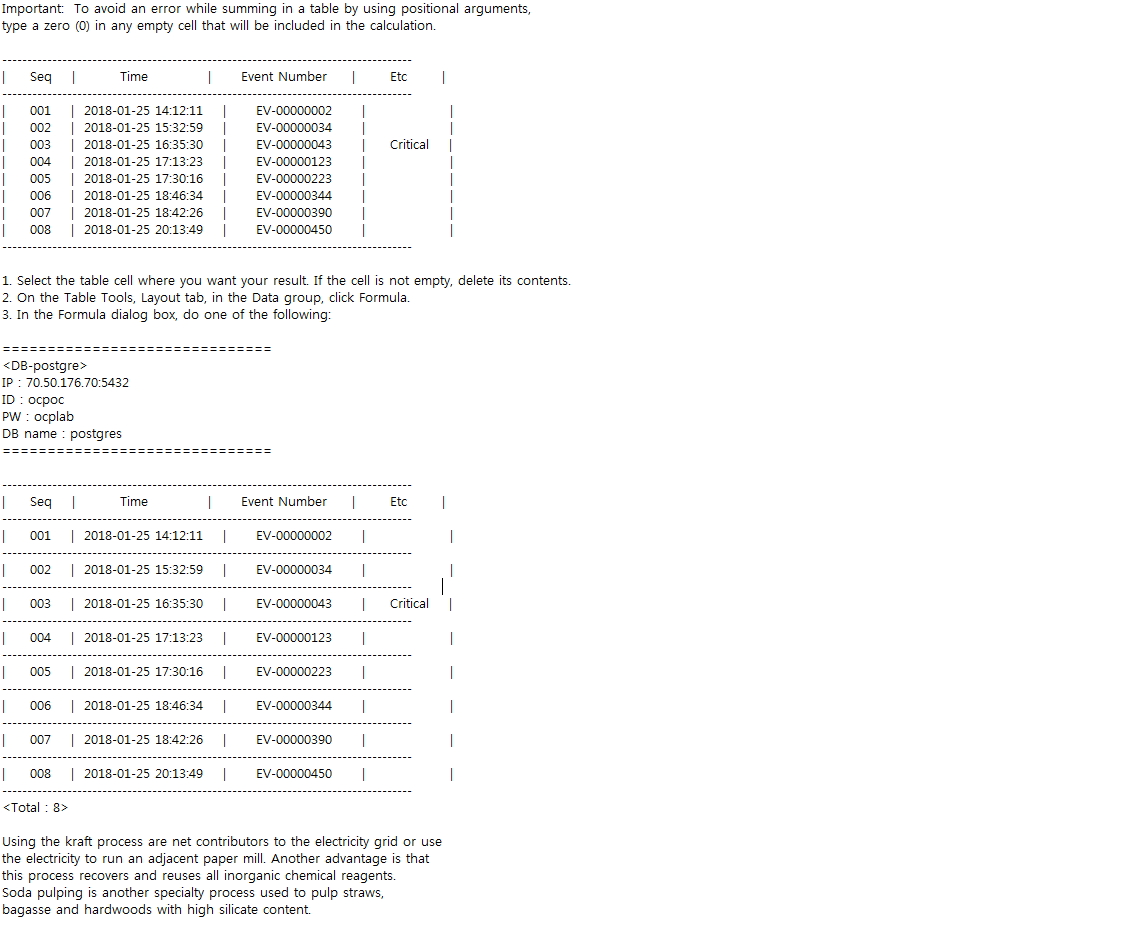table: (2, 475, 459, 795), (1, 51, 460, 254)
